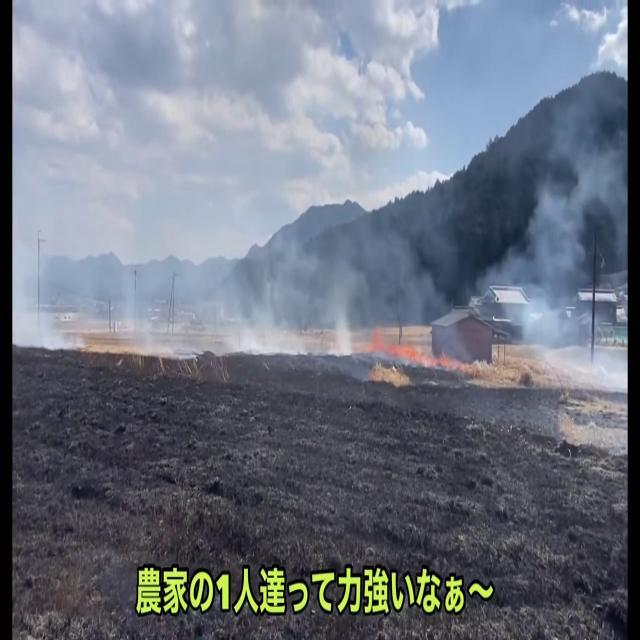Fire: (362, 312, 425, 388)
Smoke: (140, 126, 480, 372), (510, 127, 627, 377)
